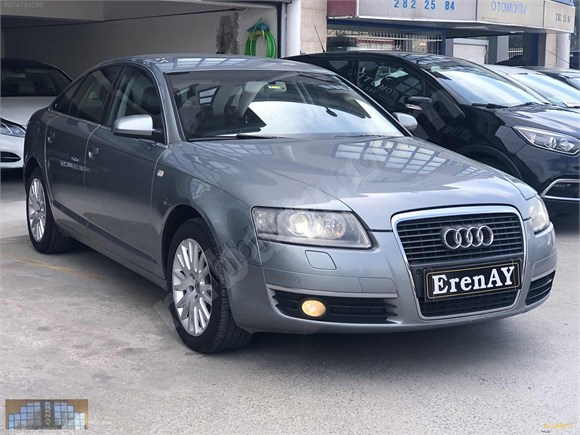audi: (436, 224, 498, 253)
